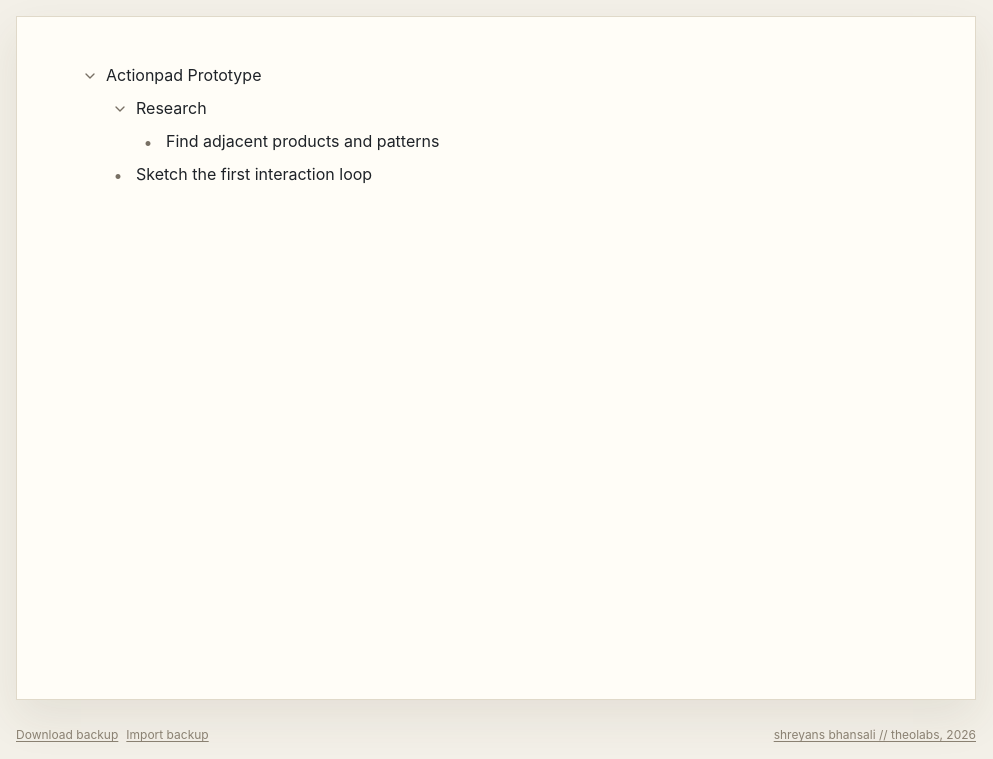
Test case: cmd z undoes bullet text edits
This screenshot has width=993, height=759.
Replace the text in the text box showing "Find adjacent products and patterns" with "Find references" at coordinates (484, 142), box [166,129,802,154]
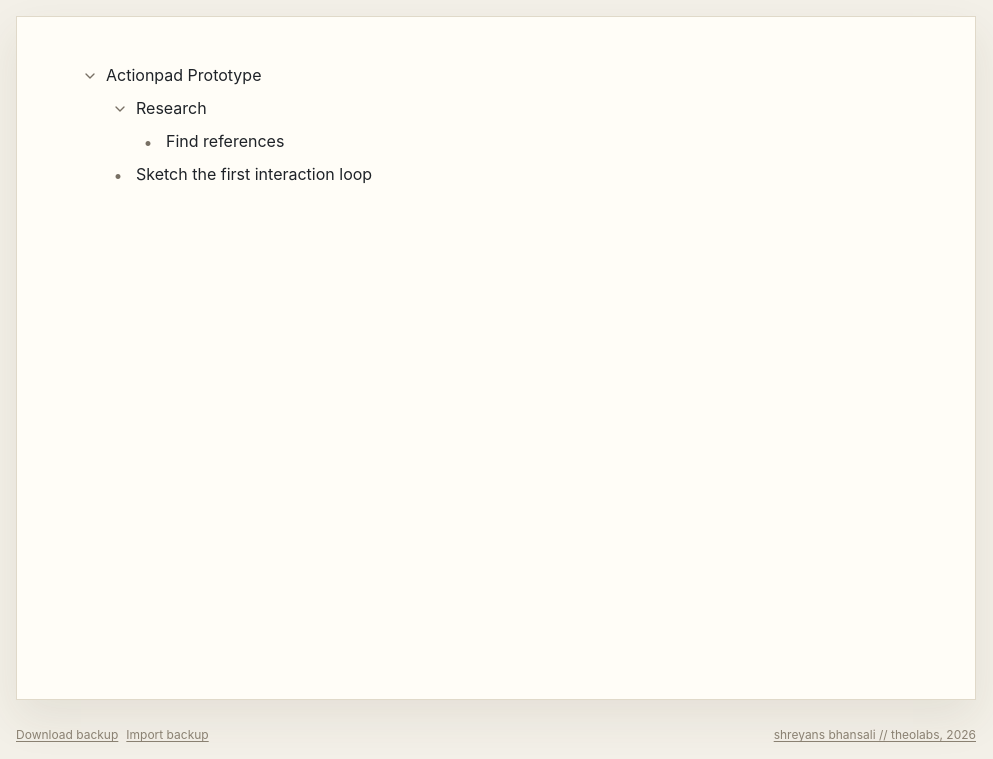
Press z in the text box showing "Find references", box [166,129,802,154]
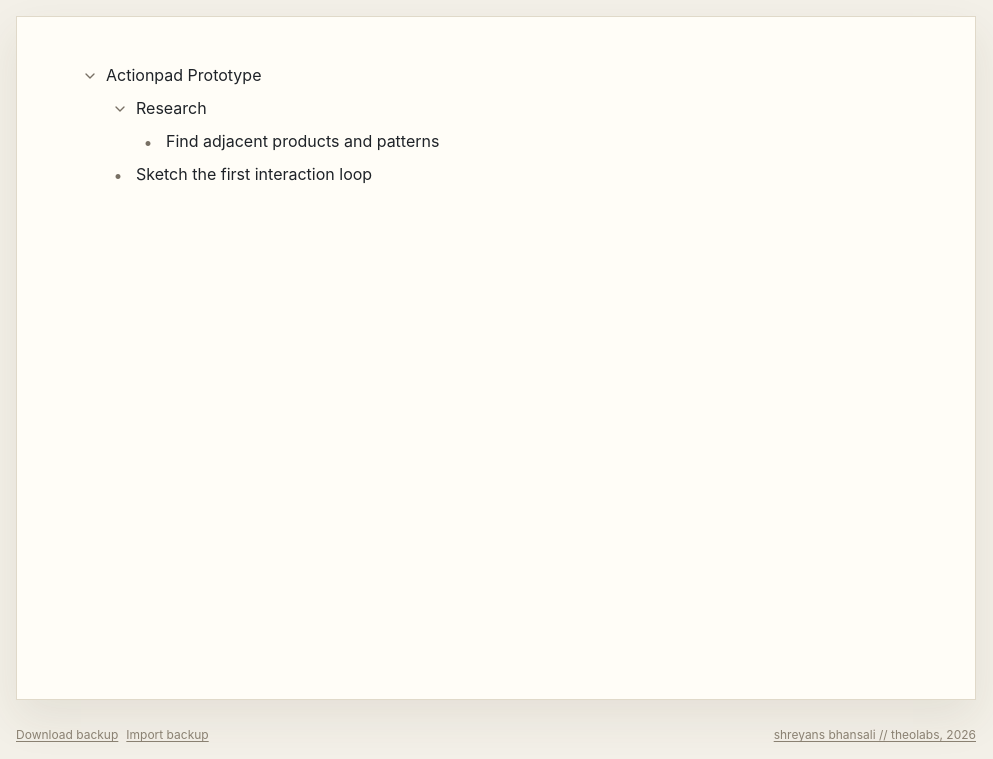
Now the text box showing "Find adjacent products and patterns" is shown, box [166,129,802,154]
